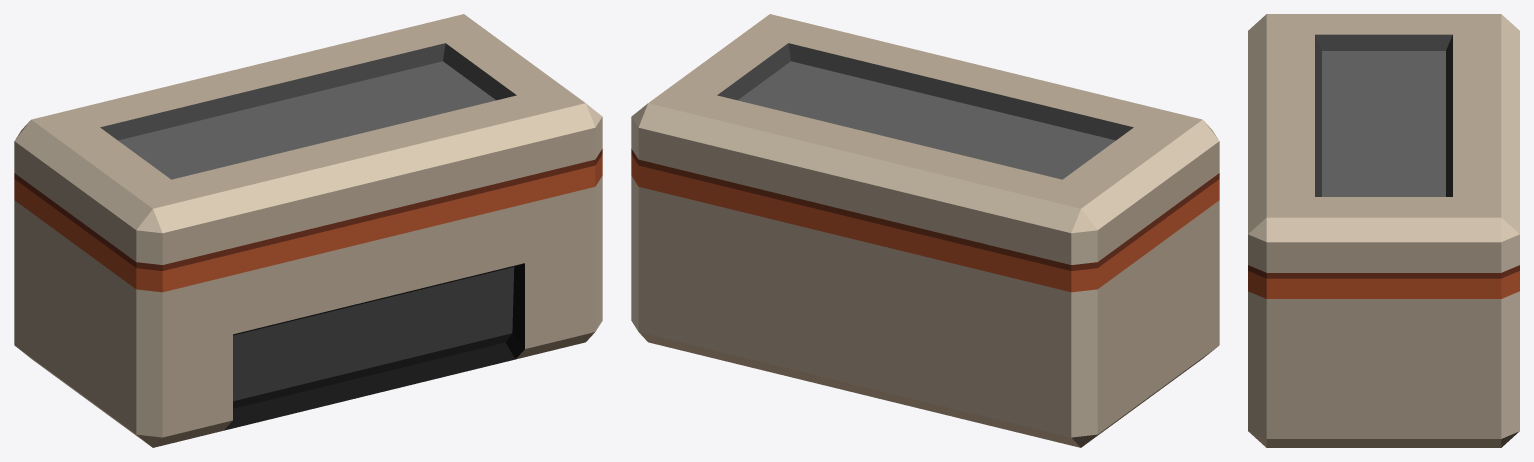
Rendered from CR_StorageCrate_Large_1.fbx.
3 renders of one model, left to right at view 1: azimuth 30°, elevation 25°; view 2: azimuth 150°, elevation 25°; view 3: azimuth 270°, elevation 25°, orthographic. The views are drawn at different scales.
Parts seen in each view (by area): view 1: CR_StorageCrate_Large_Lid_1, CR_StorageCrate_Large_1; view 2: CR_StorageCrate_Large_Lid_1, CR_StorageCrate_Large_1; view 3: CR_StorageCrate_Large_Lid_1, CR_StorageCrate_Large_1.
Part boxes in pixels (x1,y1,x2,y2): CR_StorageCrate_Large_Lid_1: (14, 14, 602, 292); CR_StorageCrate_Large_1: (14, 176, 602, 447); CR_StorageCrate_Large_Lid_1: (631, 14, 1219, 292); CR_StorageCrate_Large_1: (631, 176, 1219, 447); CR_StorageCrate_Large_Lid_1: (1248, 14, 1519, 298); CR_StorageCrate_Large_1: (1248, 291, 1519, 447).
Size of the model in its own units: 1.02 by 0.4986 by 0.5331.
